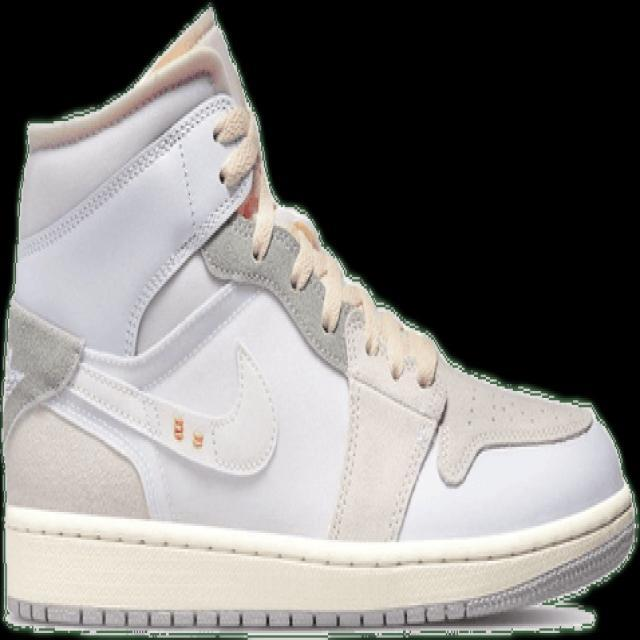J1_InsoleChar: (2, 4, 636, 635)
J1_StitchPattern: (201, 100, 595, 537), (3, 494, 636, 627), (199, 203, 447, 539), (325, 303, 593, 541), (18, 90, 235, 260), (50, 341, 280, 478), (325, 303, 446, 541), (199, 208, 367, 376), (120, 184, 248, 357), (6, 598, 599, 632), (434, 364, 595, 487), (326, 303, 367, 540)
